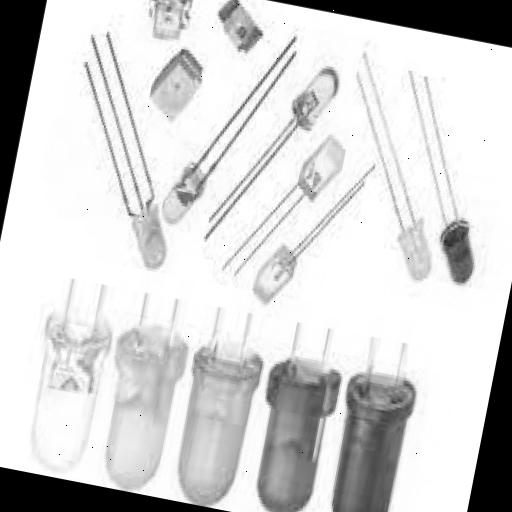LED: (303, 298, 468, 512), (153, 290, 282, 512), (69, 116, 203, 324), (94, 272, 208, 500), (236, 319, 368, 512), (10, 279, 124, 480), (147, 69, 240, 268), (345, 188, 446, 328), (418, 167, 506, 313), (260, 60, 350, 169)
